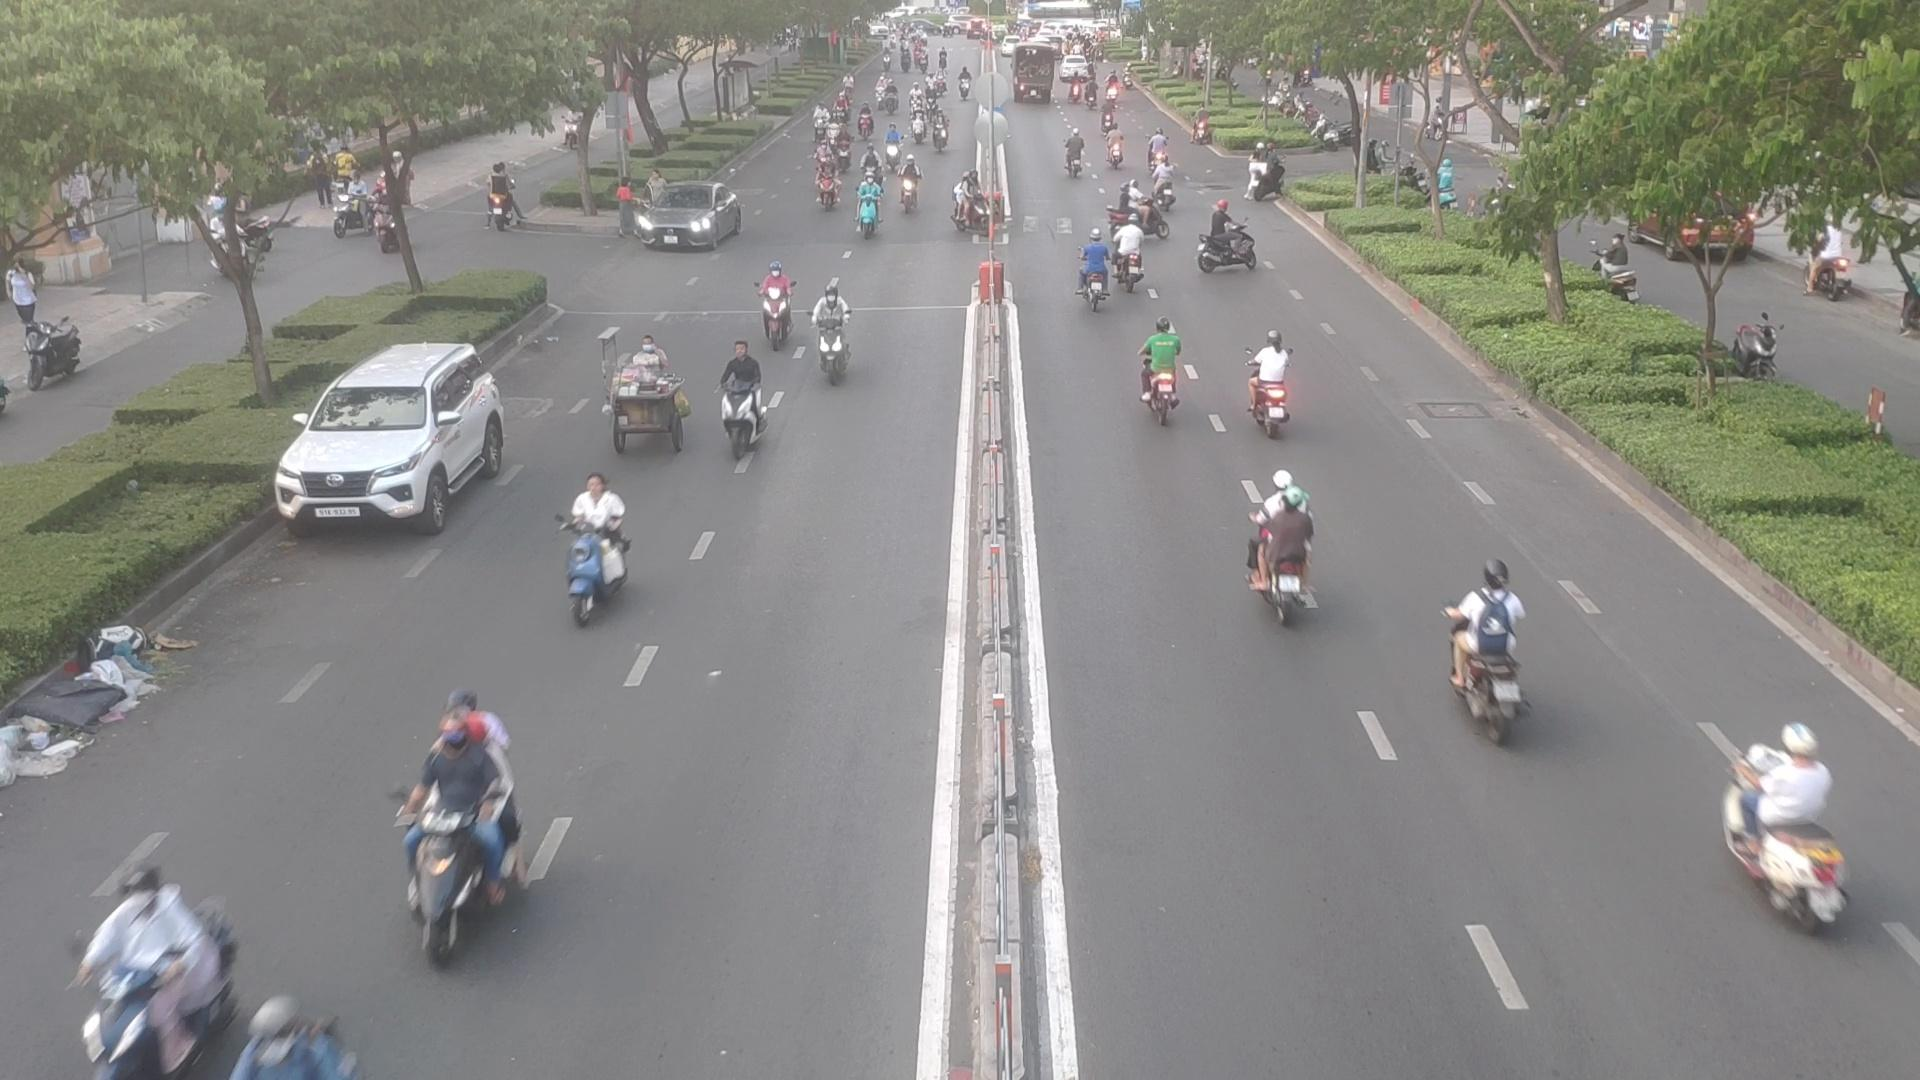car: (277, 339, 520, 527), (616, 189, 750, 255)
motorbike: (393, 694, 531, 945), (79, 858, 239, 1076), (1708, 725, 1849, 936), (1444, 576, 1534, 742), (1240, 472, 1329, 617), (229, 996, 359, 1080), (559, 481, 640, 615), (712, 342, 779, 458), (1133, 320, 1197, 421), (806, 284, 866, 382), (1245, 330, 1298, 431), (957, 173, 1017, 245), (1199, 215, 1262, 276), (748, 262, 795, 331), (1076, 227, 1113, 310), (1114, 214, 1151, 289), (856, 175, 886, 249), (810, 146, 843, 214), (895, 146, 924, 218), (1062, 138, 1091, 179)
